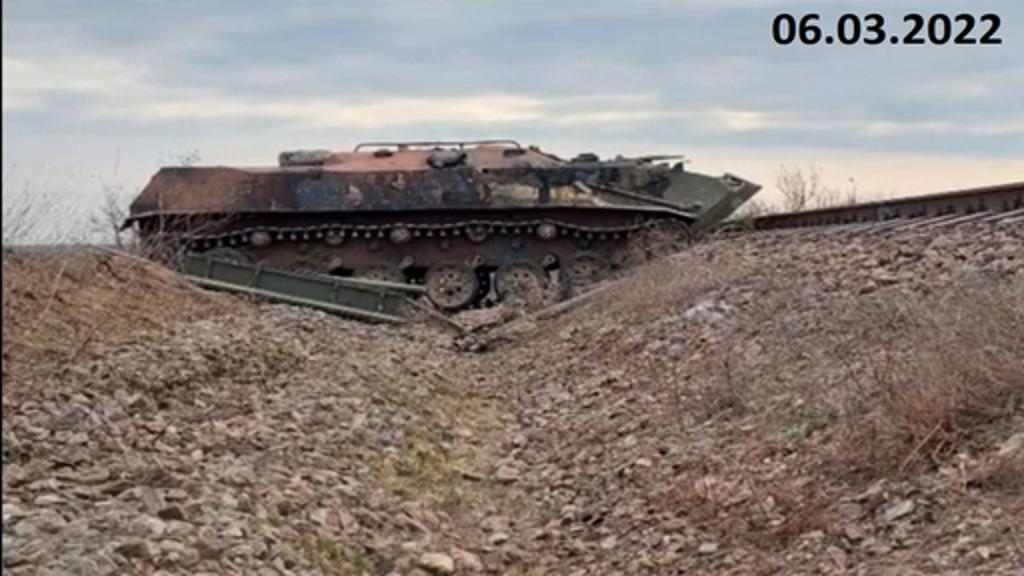APC-IFV: (116, 124, 764, 318)
